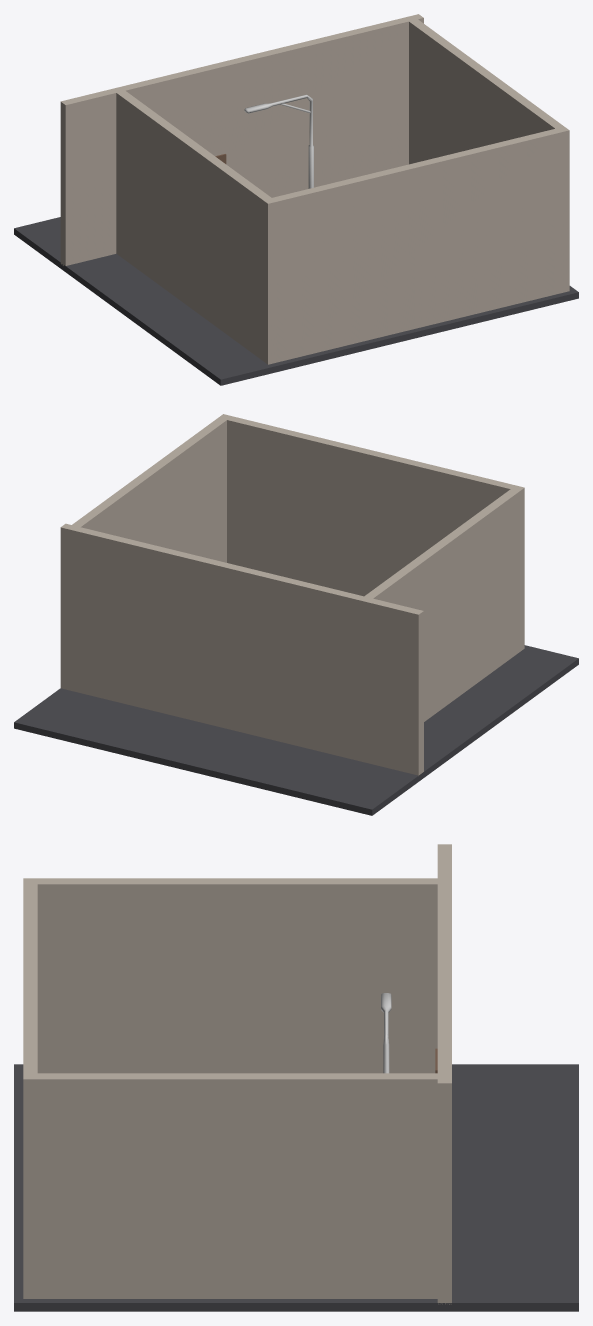
The picture shows the model from 3 angles, top to bottom: view 1: azimuth 30°, elevation 25°; view 2: azimuth 150°, elevation 25°; view 3: azimuth 270°, elevation 25°; orthographic projection. The views are drawn at different scales.
Parts seen in each view (by area): view 1: object 1, Group; view 2: object 1; view 3: object 1.
Boxes of the visible parts, x1,y1,x2,y2 form: object 1: [14, 14, 578, 385]; Group: [244, 94, 313, 188]; object 1: [14, 414, 578, 815]; object 1: [14, 844, 578, 1311].
Bounding box in the file's own units: 12 × 5.35 × 12.
